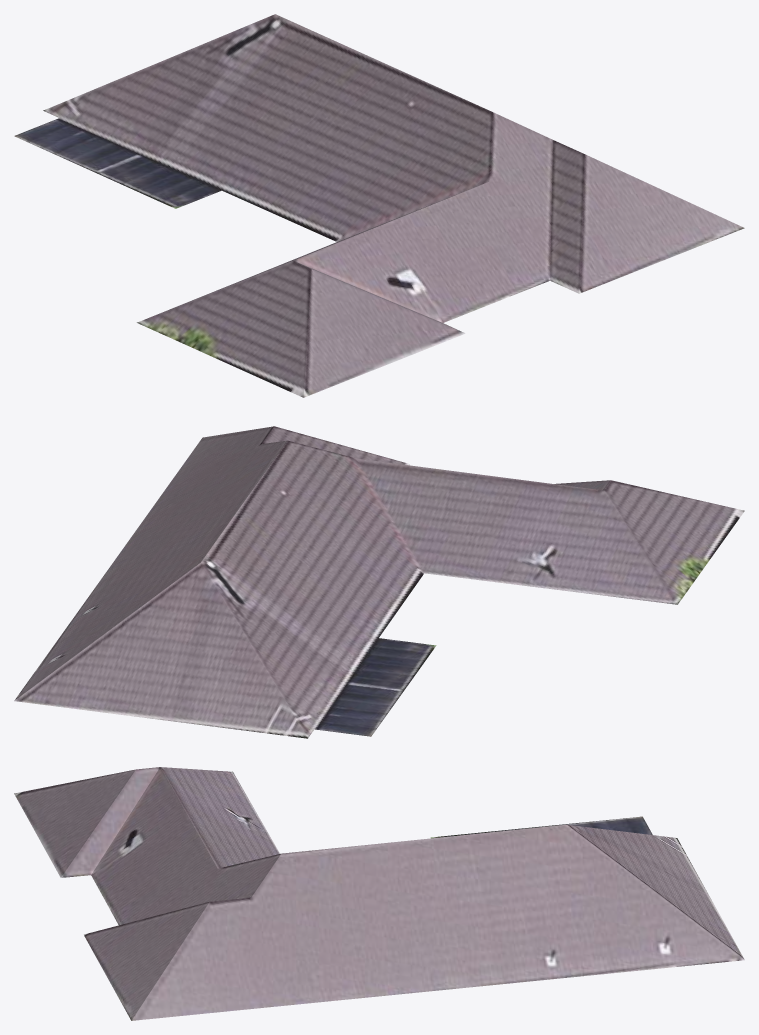
The model's file is BK39_500_013026_0012_roof.obj.
The picture shows the model from 3 angles, top to bottom: view 1: azimuth 30°, elevation 25°; view 2: azimuth 150°, elevation 25°; view 3: azimuth 270°, elevation 25°; orthographic projection. The views are drawn at different scales.
Parts seen in each view (by area): view 1: BK39_500_013026_0012_roof; view 2: BK39_500_013026_0012_roof; view 3: BK39_500_013026_0012_roof.
Boxes of the visible parts, x1,y1,x2,y2 form: BK39_500_013026_0012_roof: [14, 14, 744, 397]; BK39_500_013026_0012_roof: [14, 426, 744, 738]; BK39_500_013026_0012_roof: [14, 767, 744, 1020].
Size of the model in its own units: 411 by 70 by 510.
Materials: 1 (1 with a texture image).
